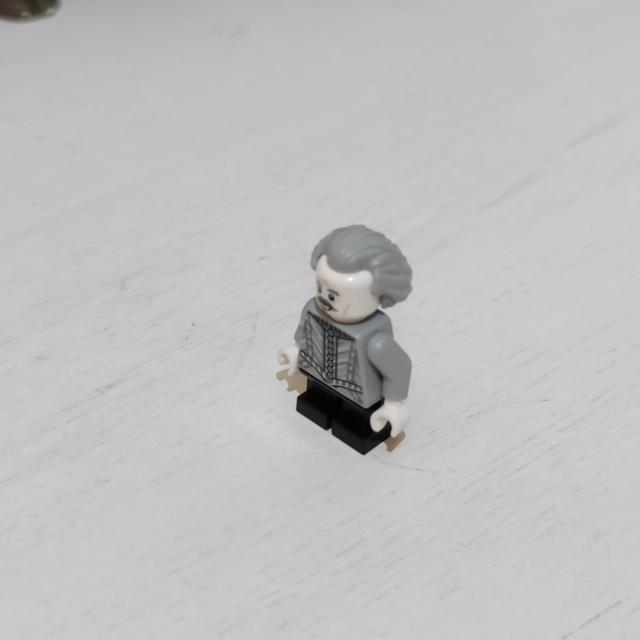lego: (278, 222, 412, 454)
